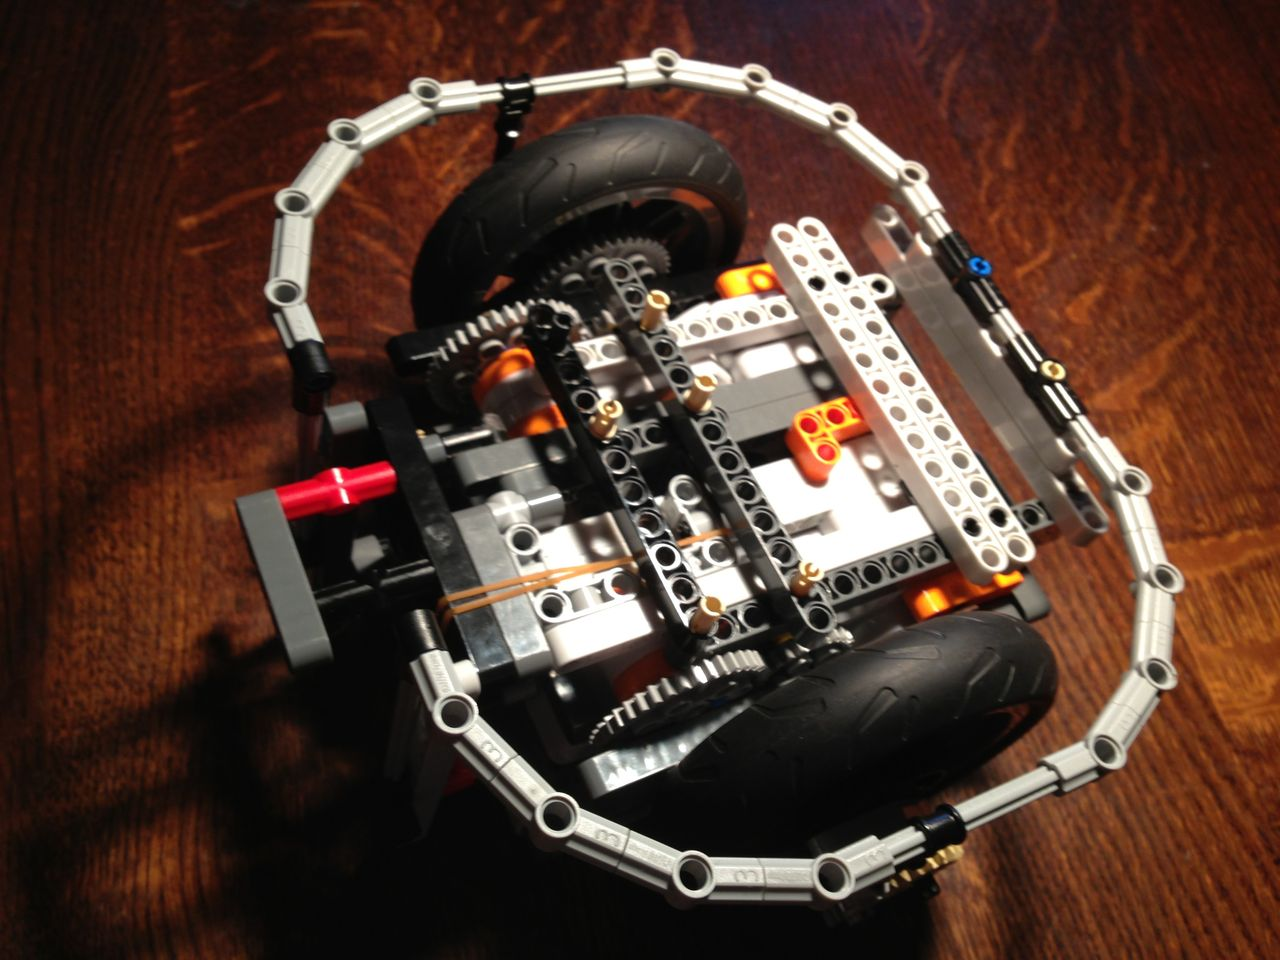Robot: (202, 12, 1193, 955)
